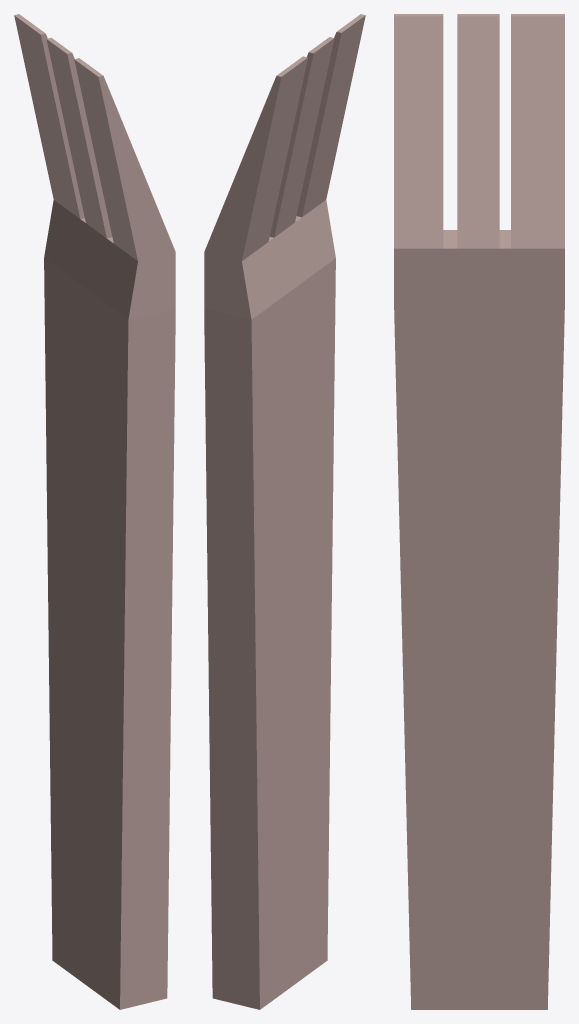
File: tenedor.obj
3 views of the same model, side by side, from view 1: azimuth 30°, elevation 25°; view 2: azimuth 150°, elevation 25°; view 3: azimuth 270°, elevation 25° (orthographic).
Parts seen in each view (by area): view 1: Cube; view 2: Cube; view 3: Cube.
Boxes of the visible parts, x1,y1,x2,y2 form: Cube: [14, 14, 175, 1009]; Cube: [204, 14, 365, 1009]; Cube: [394, 14, 564, 1009].
Size of the model in its own units: 0.4366 by 5.11 by 0.8266.
